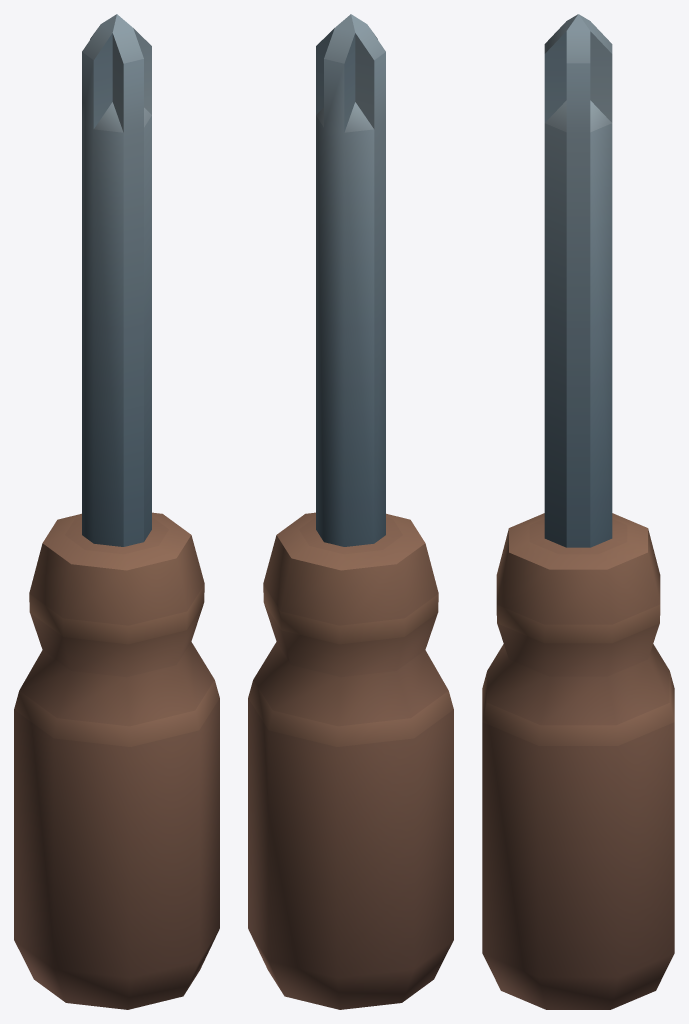
File: screwdriver_b_long.glb
3 views of the same model, side by side, from view 1: azimuth 30°, elevation 25°; view 2: azimuth 150°, elevation 25°; view 3: azimuth 270°, elevation 25° (orthographic).
Parts seen in each view (by area): view 1: screwdriver_B_long; view 2: screwdriver_B_long; view 3: screwdriver_B_long.
Boxes of the visible parts, x1,y1,x2,y2 form: screwdriver_B_long: (14, 14, 219, 1009); screwdriver_B_long: (248, 14, 453, 1009); screwdriver_B_long: (482, 14, 674, 1009).
Bounding box in the file's own units: 0.0908 × 0.5122 × 0.0908.
1 material, 1 textured.
